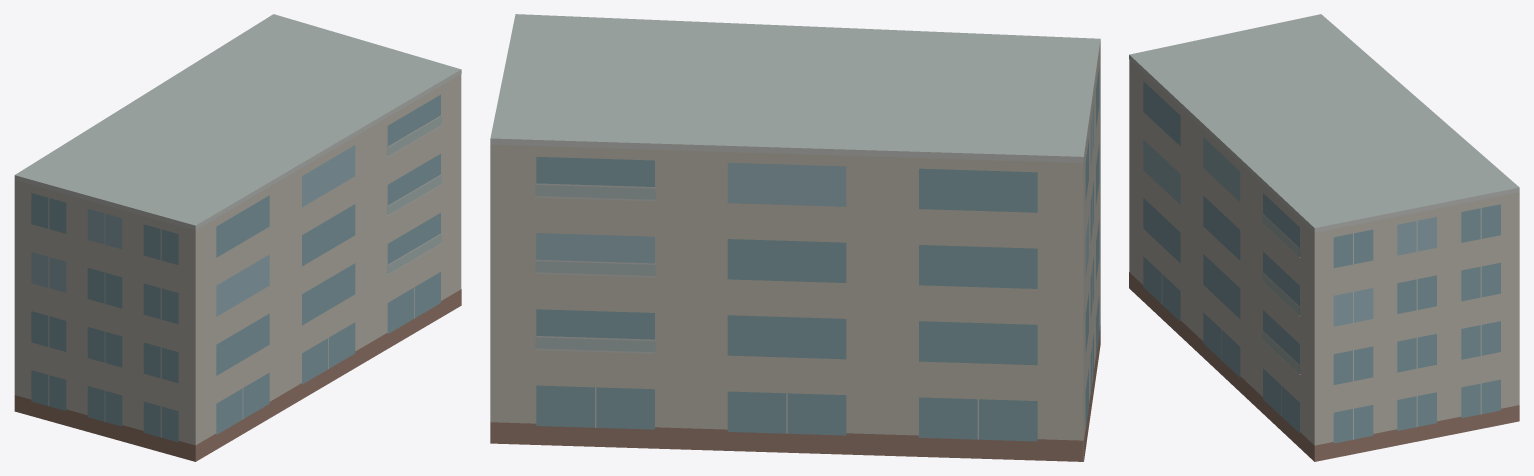
Rendered from survey-upis-32740895.glb.
3 renders of one model, left to right at view 1: azimuth 30°, elevation 25°; view 2: azimuth 150°, elevation 25°; view 3: azimuth 270°, elevation 25°, orthographic. The views are drawn at different scales.
Parts seen in each view (by area): view 1: survey-upis-32740895.tmp; view 2: survey-upis-32740895.tmp; view 3: survey-upis-32740895.tmp.
Boxes of the visible parts, left/top/right/bottom form: survey-upis-32740895.tmp: left=14, top=14, right=461, bottom=461; survey-upis-32740895.tmp: left=490, top=14, right=1100, bottom=461; survey-upis-32740895.tmp: left=1129, top=14, right=1519, bottom=461.
Size of the model in its own units: 23.98 by 12.2 by 18.48.
